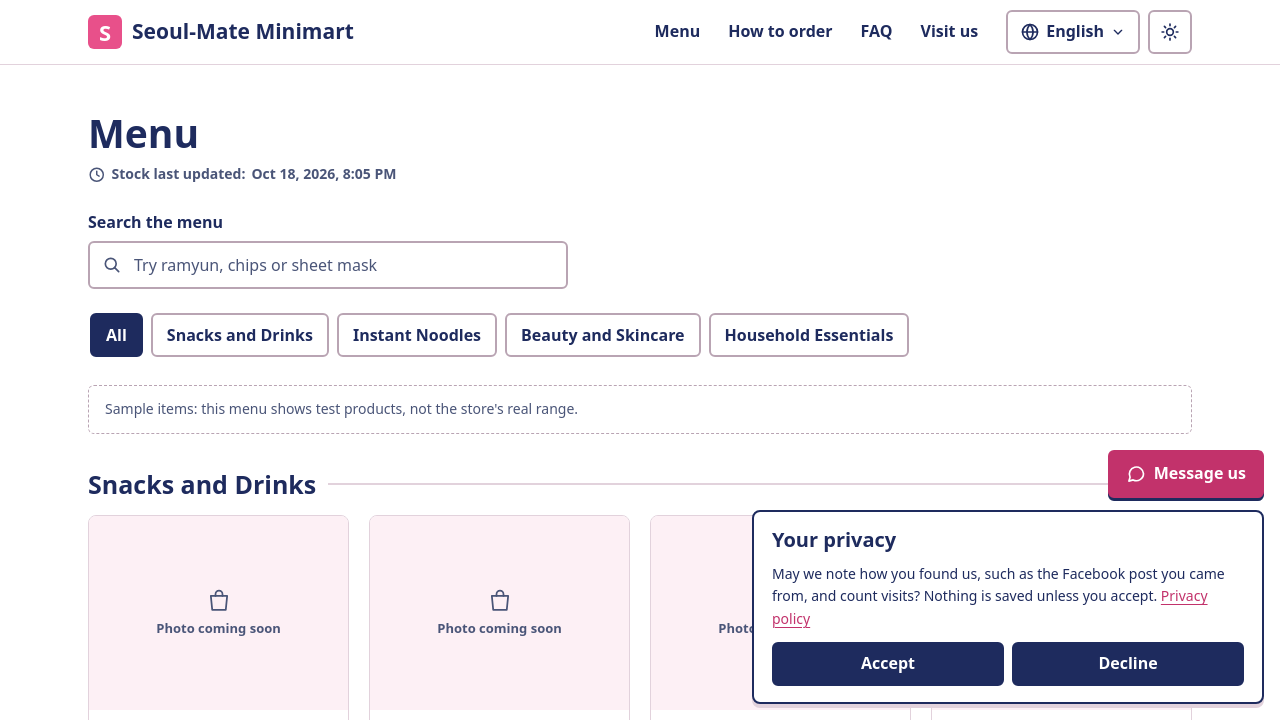
it: search (FR-12 to FR-15) › filters as the visitor types and says how many match
(page scrolled)
Type "  MILK " into the search field labelled "Search the menu".
click(328, 265); type("  MILK ")  # box [88, 241, 568, 289]
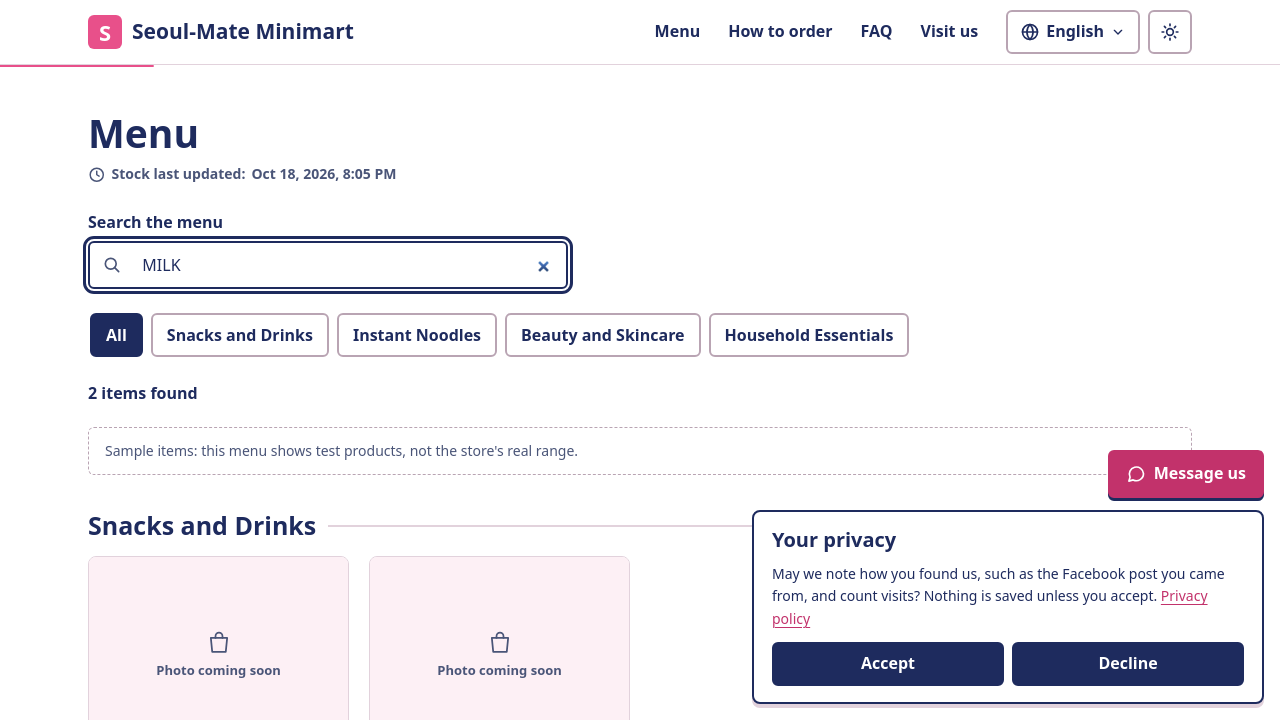
Expected: the text "2 items found" is shown, [88, 382, 198, 404]
